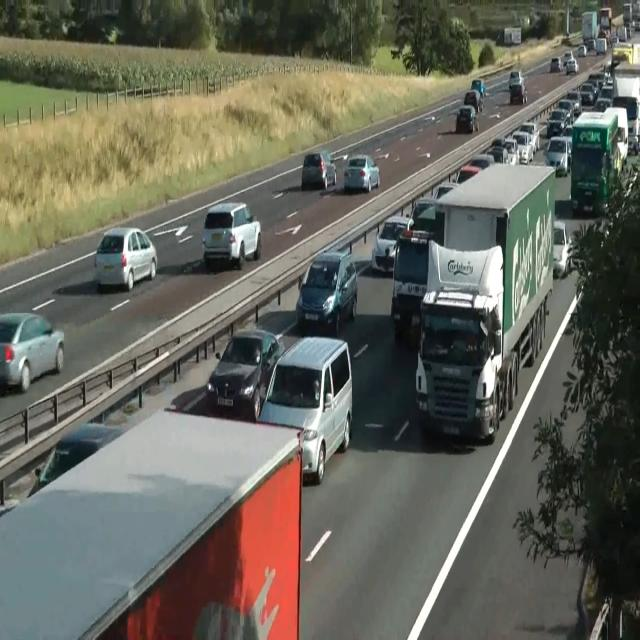bus: (27, 421, 125, 499), (206, 328, 284, 421), (0, 311, 64, 394), (94, 226, 158, 292), (371, 214, 411, 276), (589, 594, 639, 639), (301, 150, 337, 190), (344, 154, 380, 193), (456, 153, 495, 185), (407, 197, 437, 234), (552, 220, 570, 278), (492, 136, 520, 164), (511, 130, 533, 164), (546, 108, 568, 138), (456, 105, 478, 133), (486, 144, 510, 164), (432, 183, 458, 201), (509, 83, 527, 105), (464, 90, 482, 112), (508, 69, 524, 89), (471, 78, 485, 98), (62, 20, 76, 36), (566, 58, 579, 74), (550, 56, 562, 72), (577, 43, 587, 57)
jeep: (256, 334, 352, 484), (295, 249, 357, 333), (390, 228, 432, 338), (201, 201, 261, 269)
minibus: (0, 406, 304, 639), (414, 162, 556, 444), (570, 106, 628, 215), (612, 73, 640, 154), (582, 7, 612, 49), (622, 1, 640, 30), (504, 27, 521, 45)
